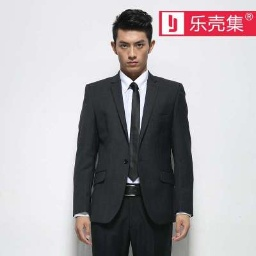face: (110, 9, 155, 74)
